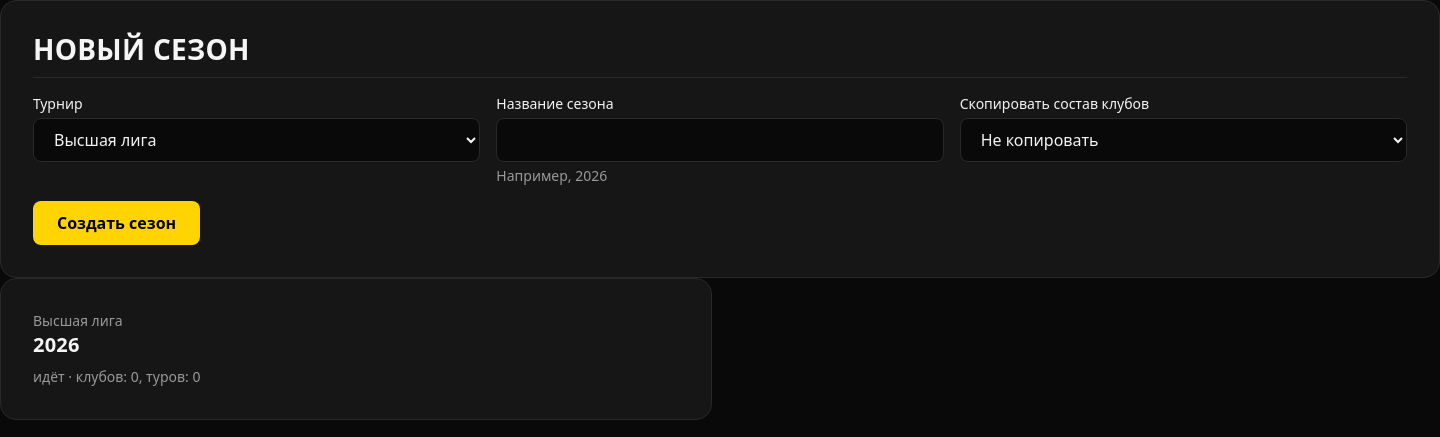
Test case: SeasonsManager › shows a new season first, at once
This screenshot has width=1440, height=437.
Type "2027" into the field labelled "Название сезона". click: (720, 140)
box: [496,118,944,162]
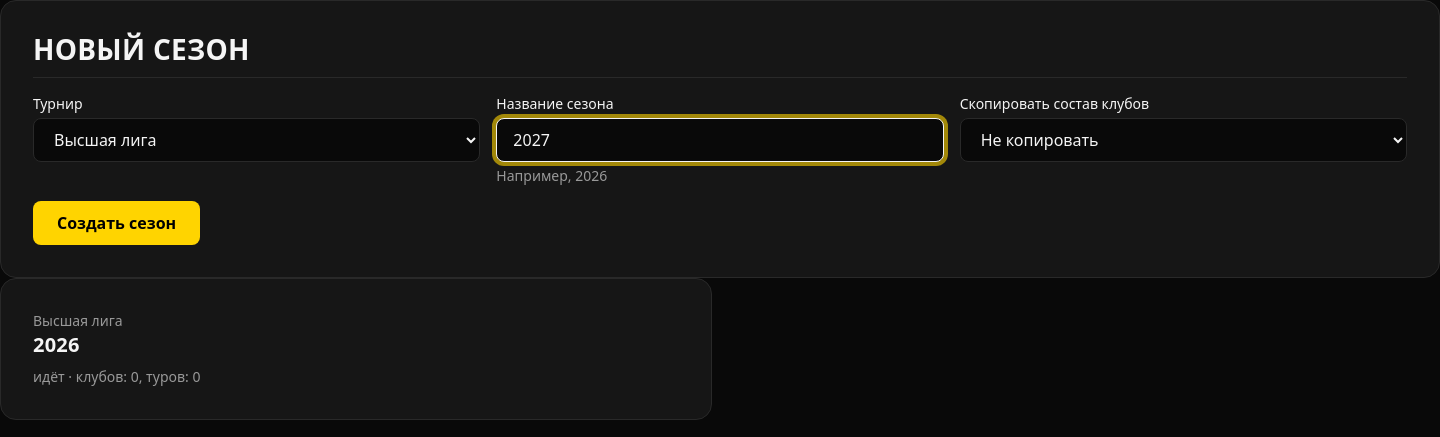
Click the button "Создать сезон". click: (117, 223)
box: [33,201,200,245]
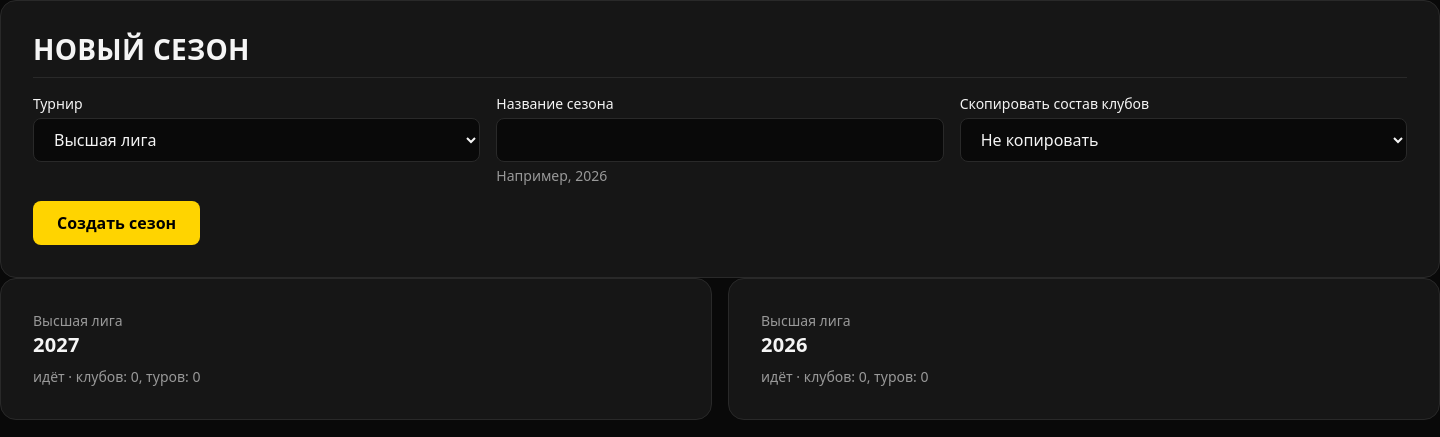
Expected: the headings read "2027", "2026", in this order, [33,331,80,358]; [761,331,808,358]
